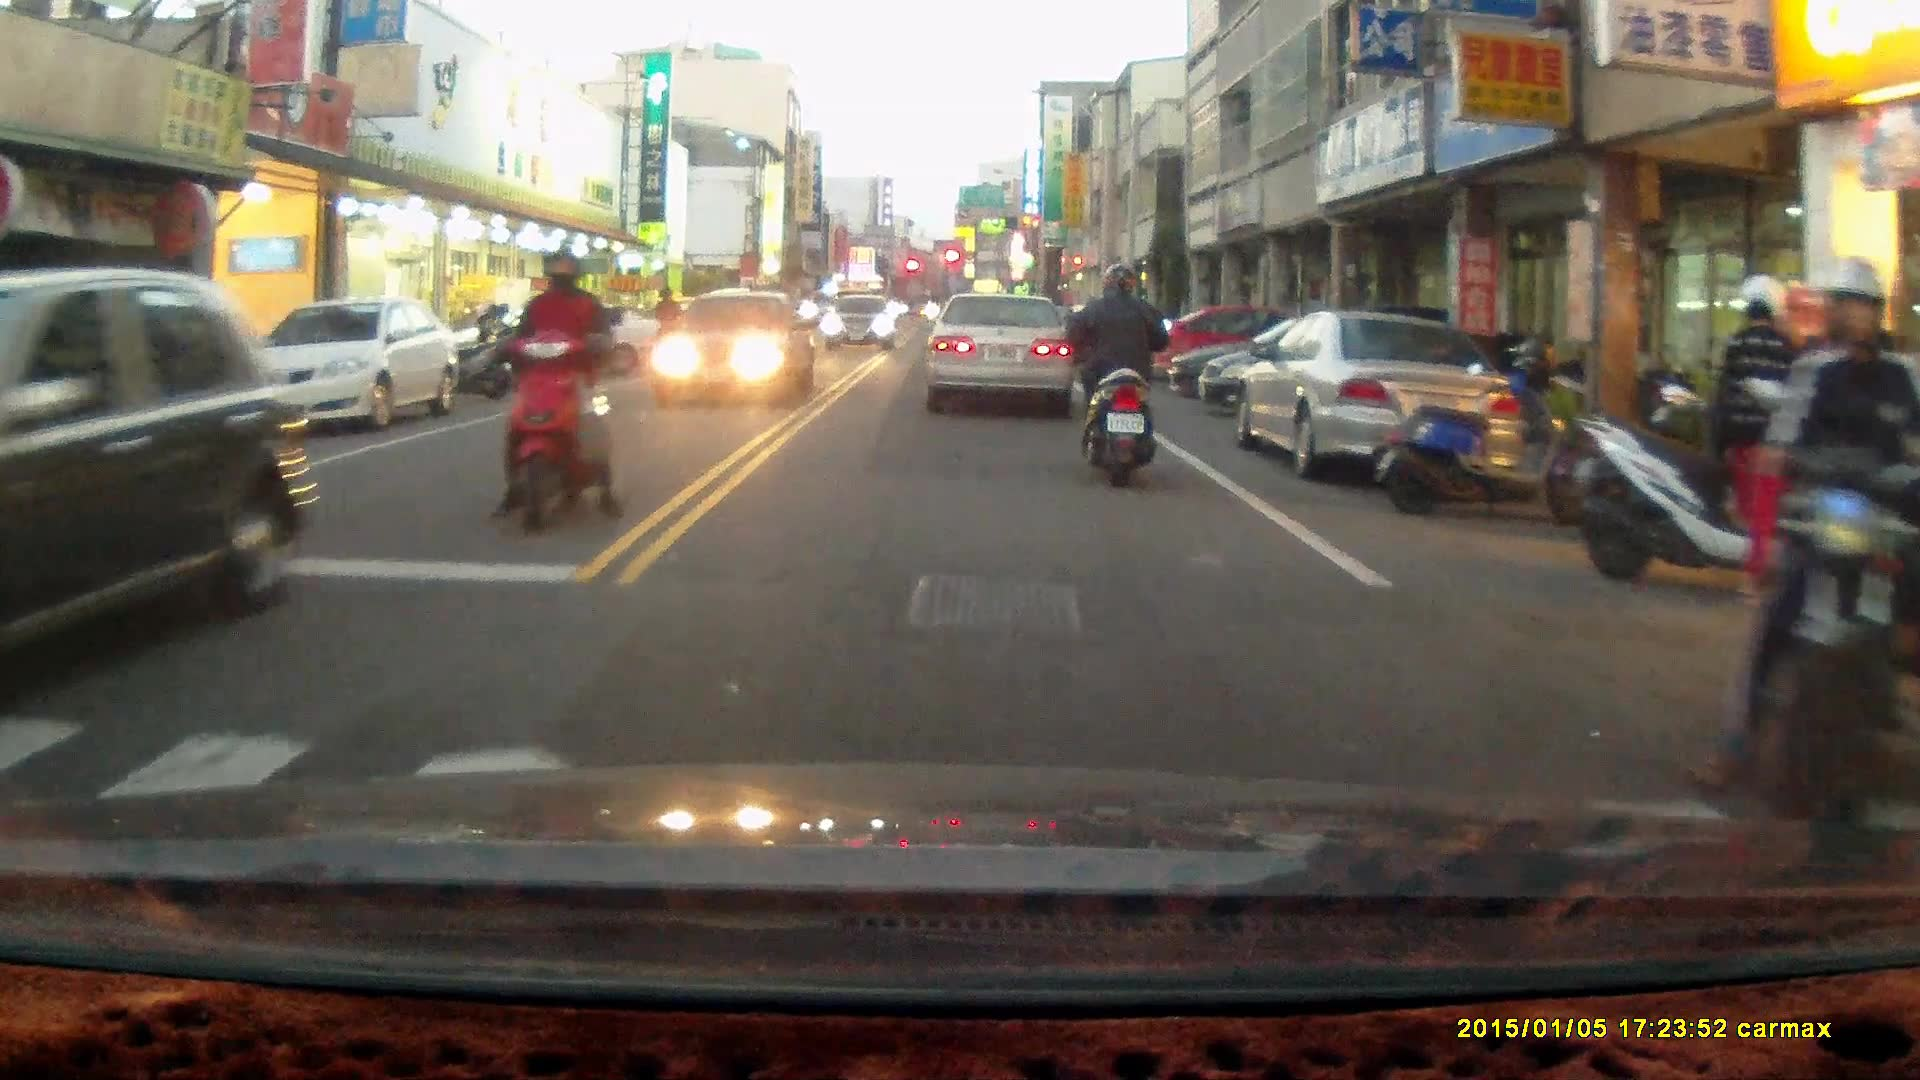pedestrian: (1714, 272, 1810, 609), (649, 284, 679, 355)
rider: (1710, 254, 1920, 839), (485, 246, 623, 530), (1064, 253, 1174, 479)
vehicle: (1, 268, 326, 691), (1230, 307, 1527, 484), (233, 294, 468, 431), (924, 290, 1078, 419), (654, 285, 816, 405), (1145, 294, 1363, 379), (820, 288, 898, 346)
